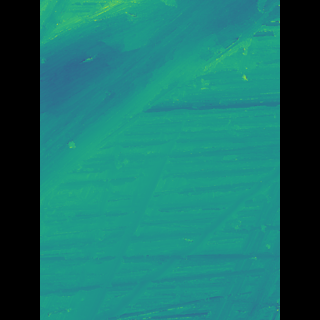Loch: (67, 0, 249, 205), (109, 163, 250, 319)
